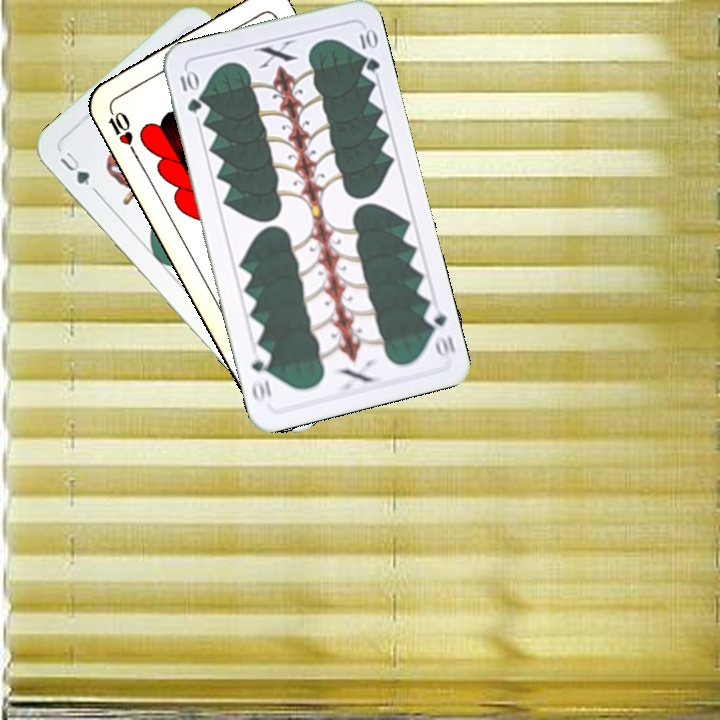G10: (420, 302, 458, 360), (176, 67, 204, 116)
GU: (55, 147, 95, 189)
H10: (104, 102, 138, 157)
